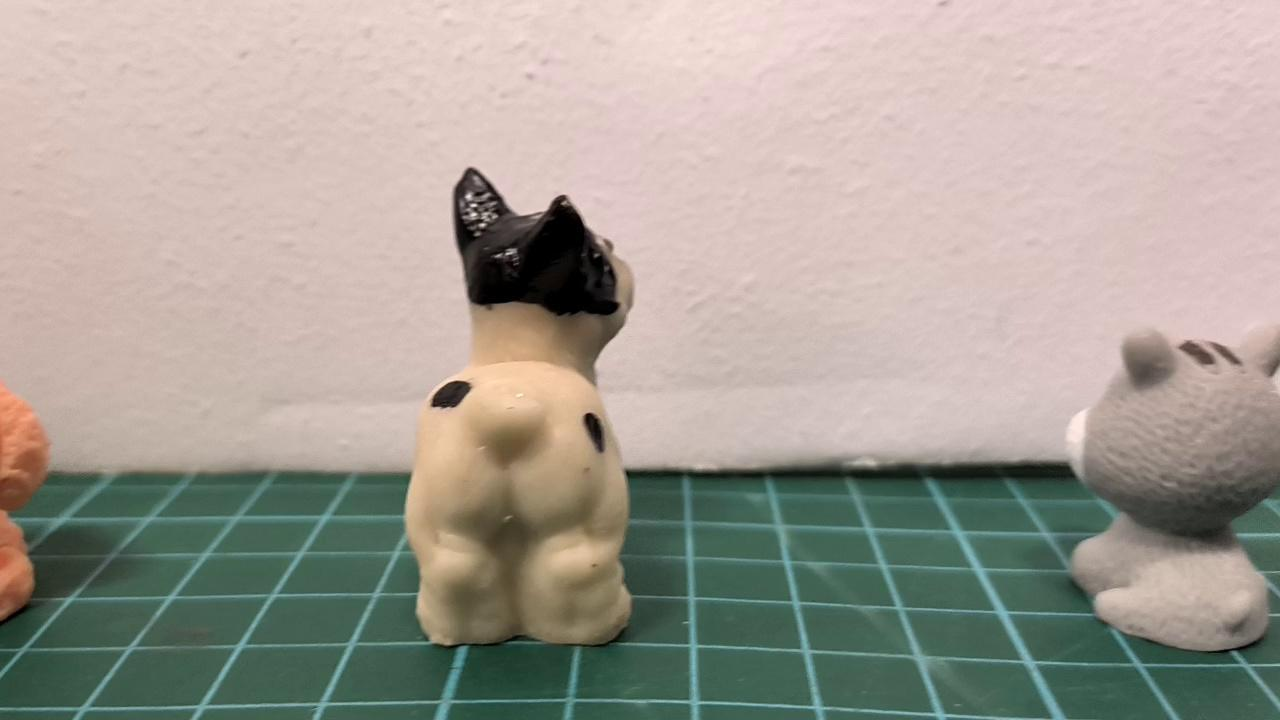pet: (402, 166, 638, 652), (1062, 324, 1280, 656)
